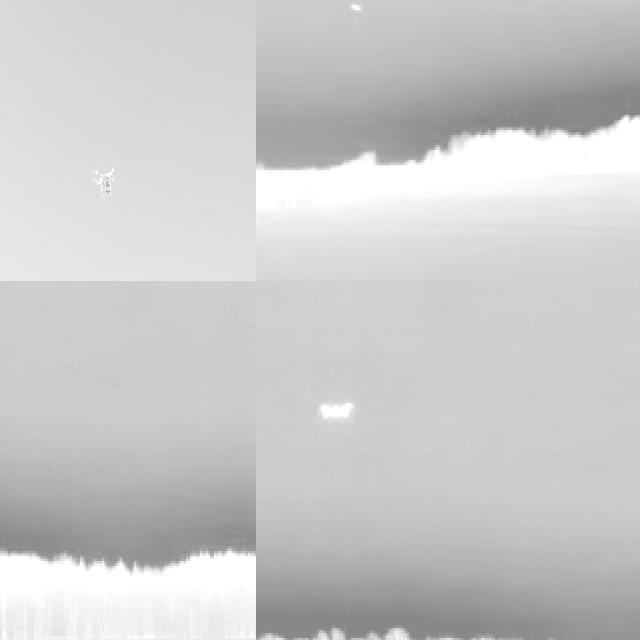1: (305, 396, 365, 430), (336, 0, 376, 35)
drone: (91, 161, 117, 207)
